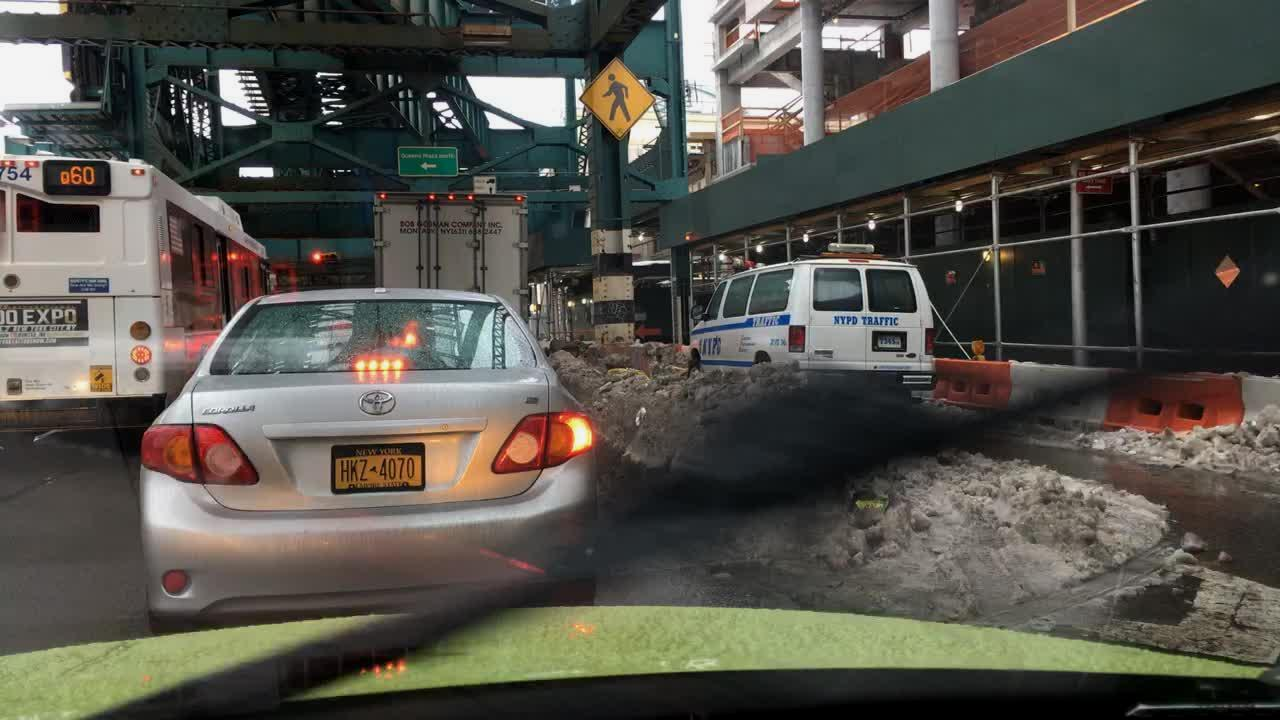Toyota: (357, 390, 400, 420)
